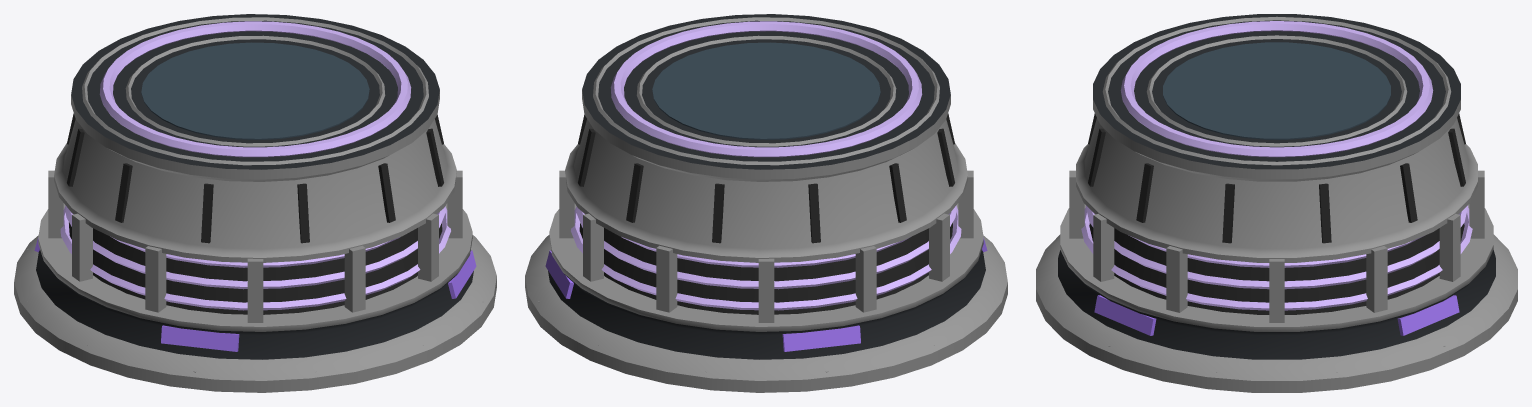
Rendered from Vault_Pedestal_Relic.fbx.
The picture shows the model from 3 angles, left to right: view 1: azimuth 30°, elevation 25°; view 2: azimuth 150°, elevation 25°; view 3: azimuth 270°, elevation 25°; orthographic projection.
Visible parts, largest first — view 1: Vault_Pedestal_Relic_LOD0; view 2: Vault_Pedestal_Relic_LOD0; view 3: Vault_Pedestal_Relic_LOD0.
Part boxes in pixels (left/top/right/bottom): Vault_Pedestal_Relic_LOD0: left=14, top=14, right=496, bottom=392; Vault_Pedestal_Relic_LOD0: left=525, top=14, right=1007, bottom=392; Vault_Pedestal_Relic_LOD0: left=1036, top=14, right=1517, bottom=392.
Size of what is drawn, in the model's own units: 2.19 by 1.03 by 2.19.
